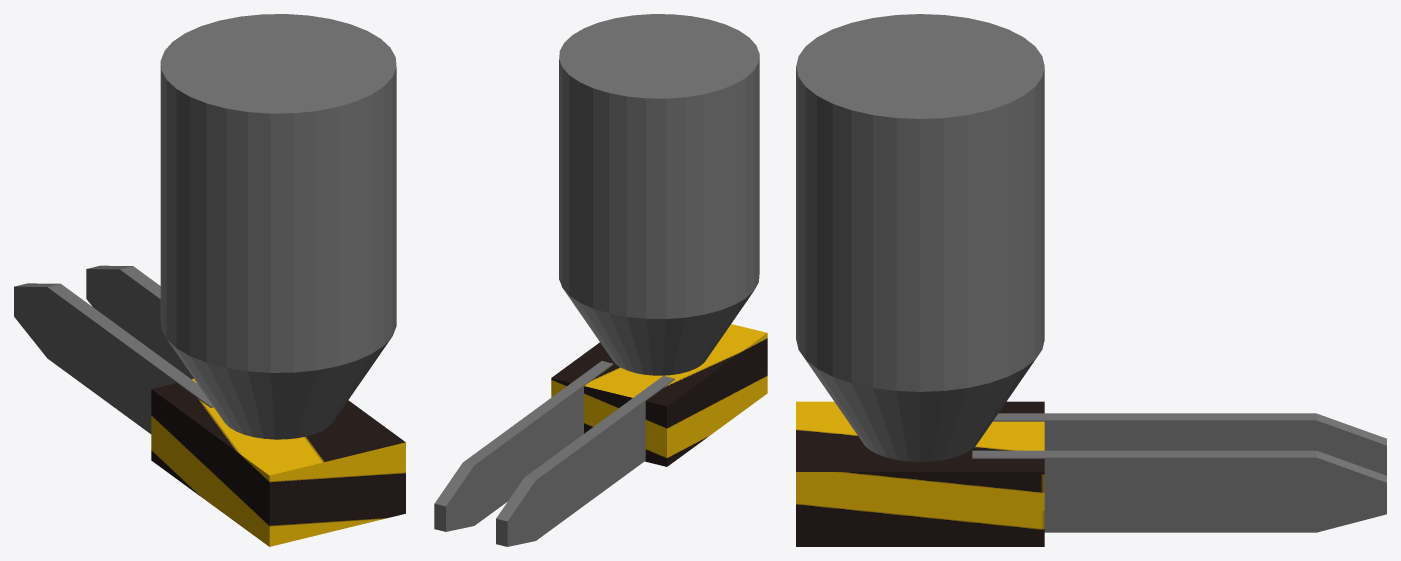
The model's file is dronet.gltf.
The picture shows the model from 3 angles, left to right: view 1: azimuth 30°, elevation 25°; view 2: azimuth 150°, elevation 25°; view 3: azimuth 270°, elevation 25°; orthographic projection. The views are drawn at different scales.
Visible parts, largest first — view 1: hardpoint, magazine, taser; view 2: hardpoint, taser, magazine; view 3: hardpoint, taser, magazine.
Part boxes in pixels (left/top/right/bottom): hardpoint: left=160, top=14, right=396, bottom=439; magazine: left=151, top=379, right=405, bottom=546; taser: left=14, top=265, right=213, bottom=433; hardpoint: left=559, top=14, right=759, bottom=375; taser: left=434, top=361, right=674, bottom=546; magazine: left=551, top=324, right=767, bottom=466; hardpoint: left=796, top=14, right=1044, bottom=461; taser: left=972, top=413, right=1386, bottom=532; magazine: left=796, top=401, right=1044, bottom=546.
Bounding box in the file's own units: 1.35 × 2.67 × 3.21.
Materials: 2 (1 with a texture image).
